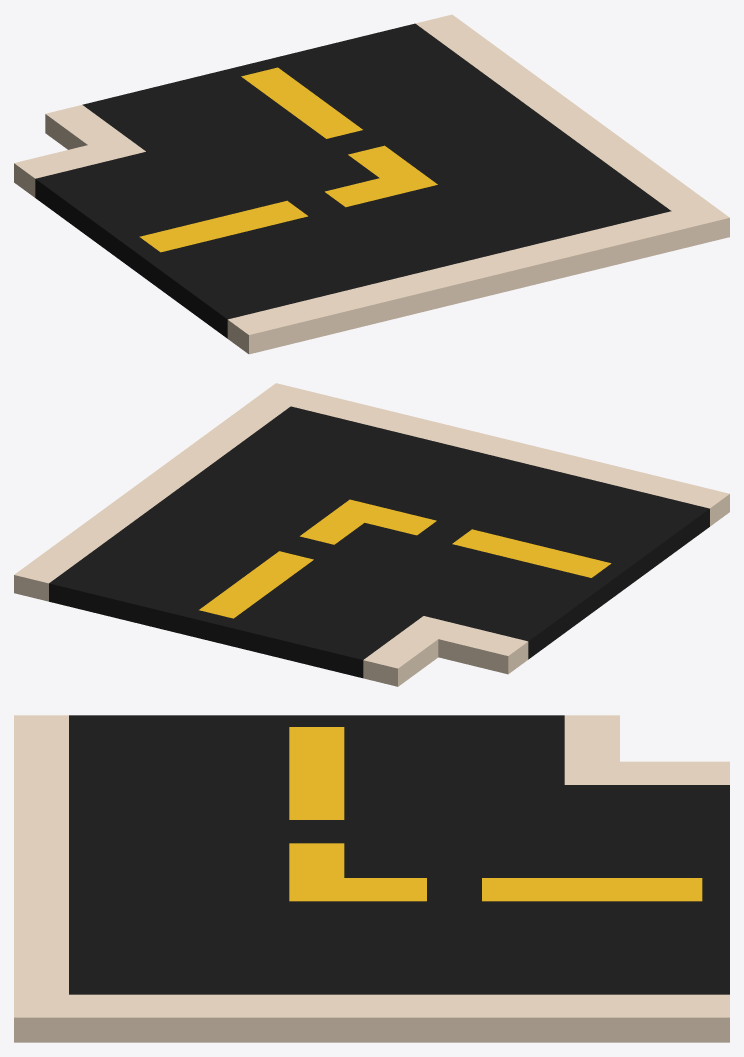
File: RaodP6.obj
The picture shows the model from 3 angles, top to bottom: view 1: azimuth 30°, elevation 25°; view 2: azimuth 150°, elevation 25°; view 3: azimuth 270°, elevation 25°; orthographic projection. The views are drawn at different scales.
Bounding box in the file's own units: 2.6 × 0.1 × 2.6.
1 material, 1 textured.
